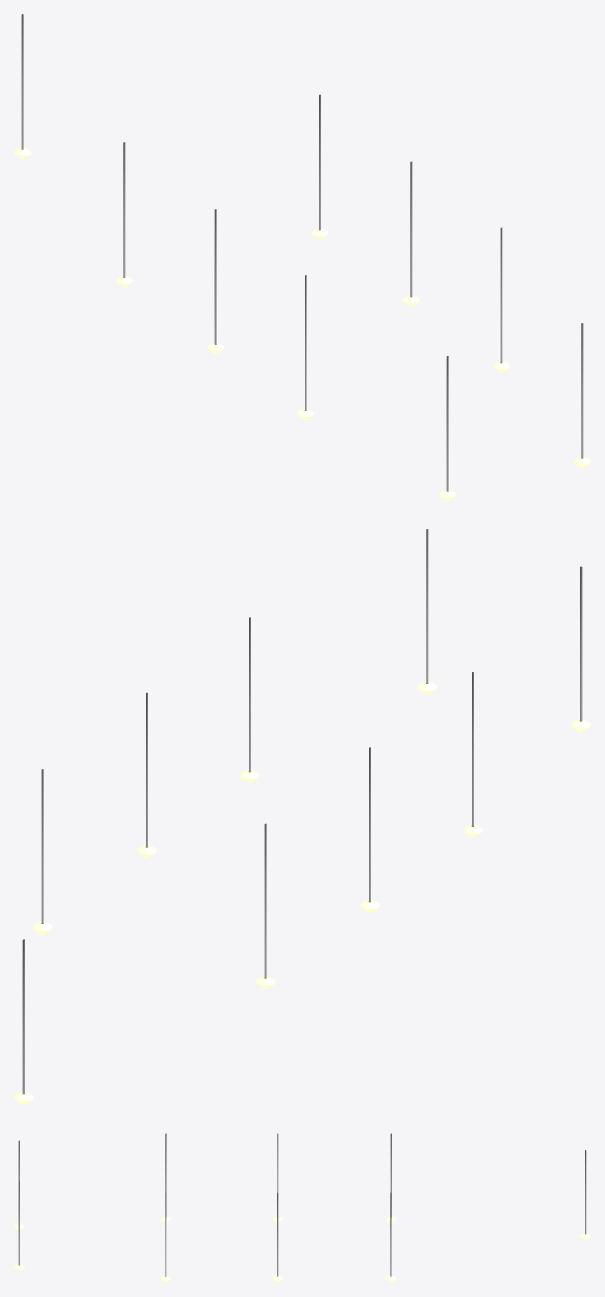
Rendered from Lamp_Group_Final.fbx.
3 views of the same model, one above another, from view 1: azimuth 30°, elevation 25°; view 2: azimuth 150°, elevation 25°; view 3: azimuth 270°, elevation 25° (orthographic). The views are drawn at different scales.
Parts seen in each view (by area): view 1: Lamp_Group_Final; view 2: Lamp_Group_Final; view 3: Lamp_Group_Final.
Part boxes in pixels (x1,y1,x2,y2): Lamp_Group_Final: (14, 14, 590, 500); Lamp_Group_Final: (14, 529, 590, 1104); Lamp_Group_Final: (14, 1133, 590, 1282).
Bounding box in the file's own units: 3.71 × 2.43 × 14.19.
